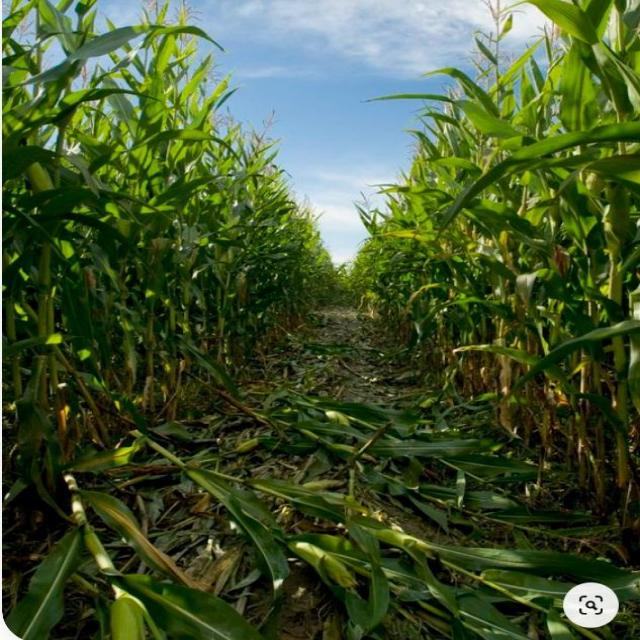row: (3, 305, 639, 636)
